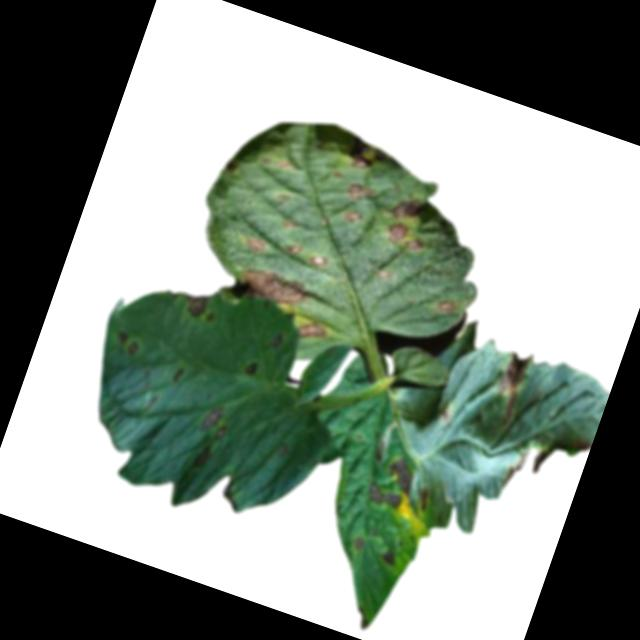Early_blight: (221, 258, 312, 326), (483, 345, 535, 427), (378, 216, 428, 257), (191, 400, 235, 443), (500, 441, 532, 494), (348, 137, 389, 177), (361, 479, 405, 514), (382, 455, 420, 494), (175, 287, 209, 323), (389, 190, 425, 224), (344, 179, 378, 209), (296, 318, 330, 347), (241, 232, 270, 259), (112, 330, 140, 357), (189, 442, 212, 474), (375, 545, 401, 570), (433, 293, 458, 318), (342, 206, 368, 229), (306, 250, 330, 273), (239, 357, 259, 381), (348, 534, 366, 553), (168, 366, 185, 384), (284, 242, 303, 258)
